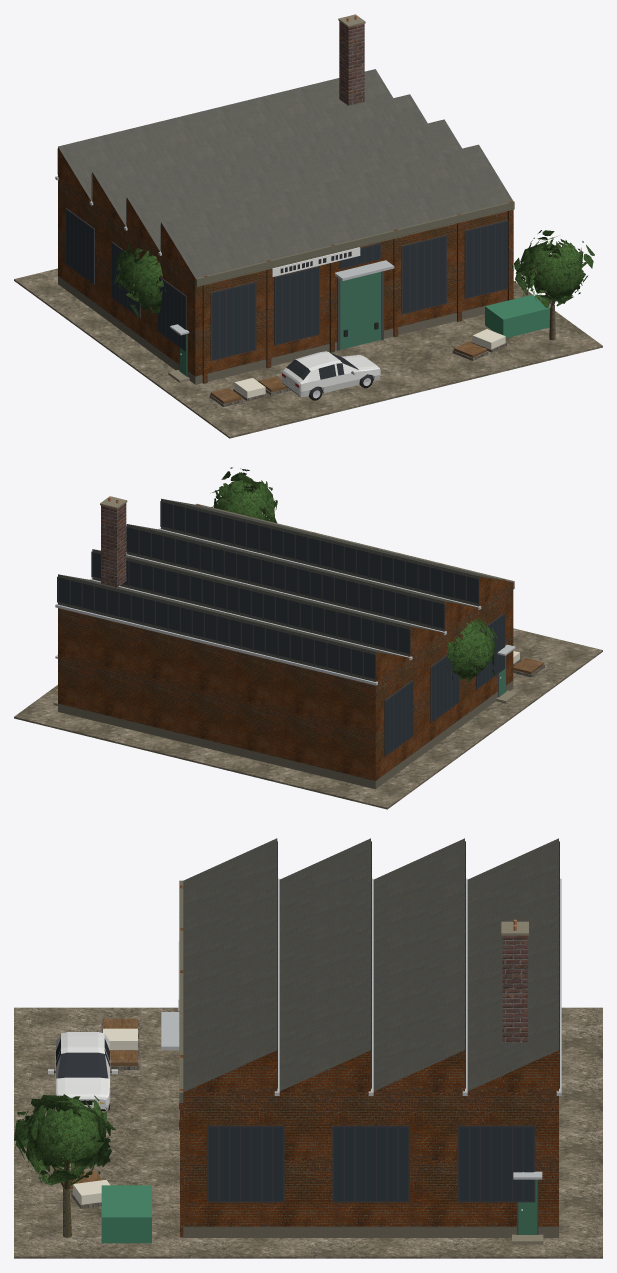
The model's file is workshop_sawtooth.glb.
The picture shows the model from 3 angles, top to bottom: view 1: azimuth 30°, elevation 25°; view 2: azimuth 150°, elevation 25°; view 3: azimuth 270°, elevation 25°; orthographic projection. The views are drawn at different scales.
Visible parts, largest first — view 1: workshop_sawtooth_body, workshop_sawtooth_foliage; view 2: workshop_sawtooth_body, workshop_sawtooth_foliage; view 3: workshop_sawtooth_body, workshop_sawtooth_foliage.
Part boxes in pixels (x1,y1,x2,y2): workshop_sawtooth_body: (14, 14, 602, 438); workshop_sawtooth_foliage: (113, 230, 594, 316); workshop_sawtooth_body: (14, 496, 602, 809); workshop_sawtooth_foliage: (210, 467, 497, 682); workshop_sawtooth_body: (14, 838, 602, 1258); workshop_sawtooth_foliage: (14, 1094, 115, 1185).
Bounding box in the file's own units: 0.94 × 0.512 × 0.94.
27 materials, 13 textured.
